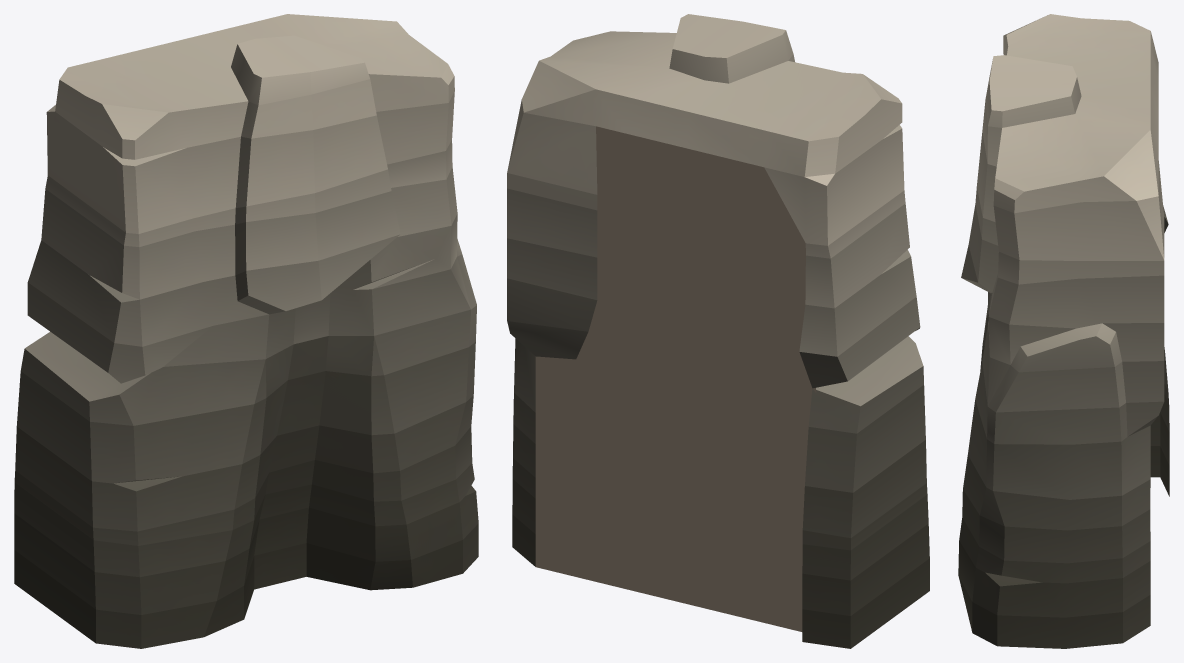
File: Canyon_Wall_3A.fbx
The picture shows the model from 3 angles, left to right: view 1: azimuth 30°, elevation 25°; view 2: azimuth 150°, elevation 25°; view 3: azimuth 270°, elevation 25°; orthographic projection. The views are drawn at different scales.
Visible parts, largest first — view 1: Canyon_Wall_3A; view 2: Canyon_Wall_3A; view 3: Canyon_Wall_3A.
Boxes of the visible parts, box(x1,y1,x2,y2) form: Canyon_Wall_3A: box(14, 14, 478, 648); Canyon_Wall_3A: box(507, 14, 929, 648); Canyon_Wall_3A: box(958, 14, 1169, 648).
Bounding box in the file's own units: 2359 × 3152 × 1227.
